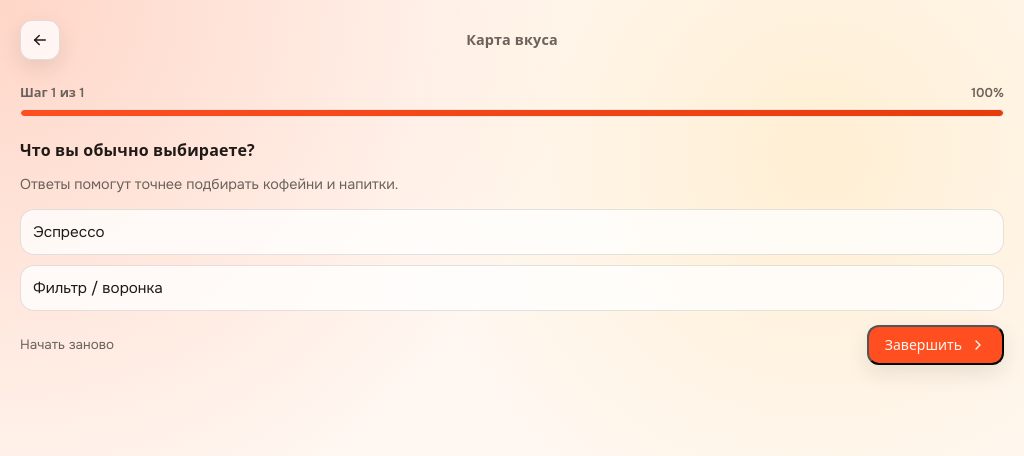
Scenario: TasteOnboardingPage smoke › completes onboarding happy path
Expected: the heading "Что вы обычно выбираете?" is shown, [20,139,255,161]
Click the button "Эспрессо". click: (69, 232)
box: [20,208,1004,254]
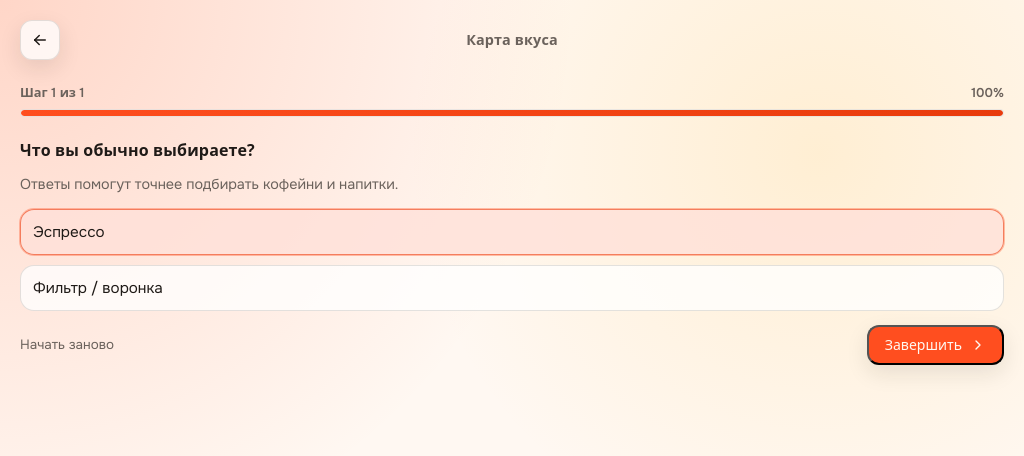
Click the button "Завершить". click: (935, 344)
box: [867,324,1004,364]
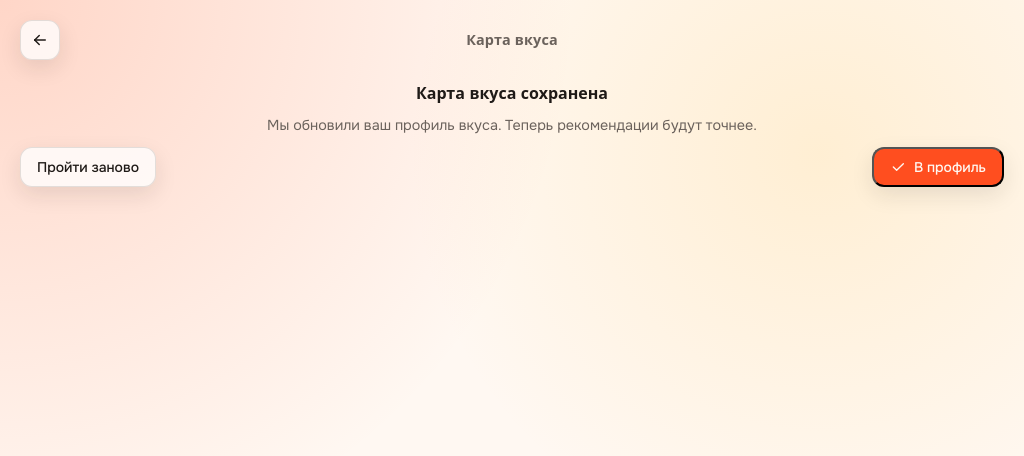
Now the text "Карта вкуса сохранена" is shown, box [416,83,608,104]
